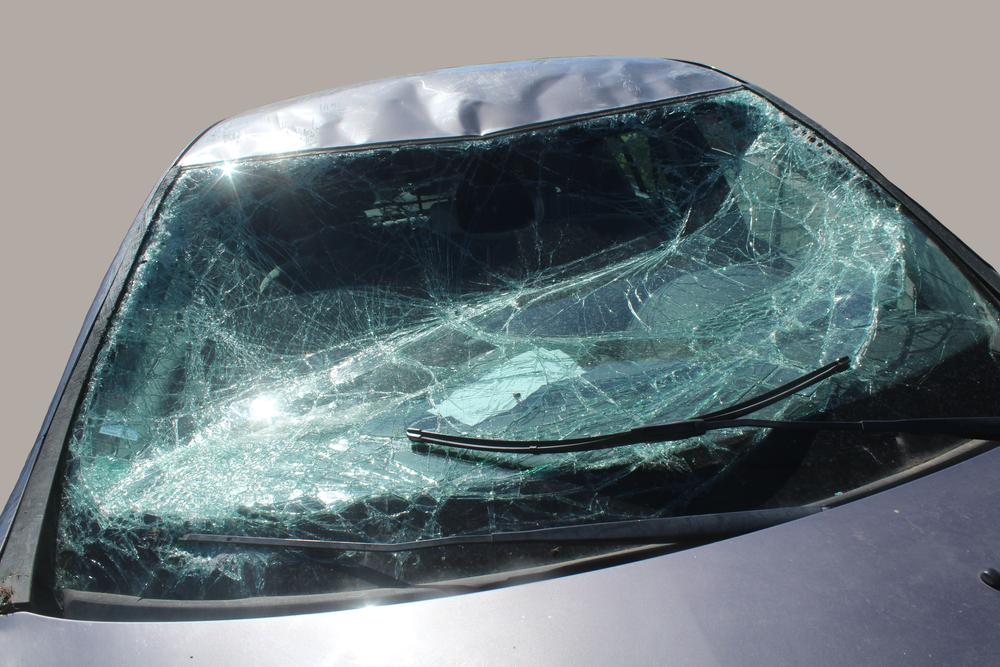dent: (178, 60, 747, 169)
glass shatter: (57, 88, 1000, 600)
